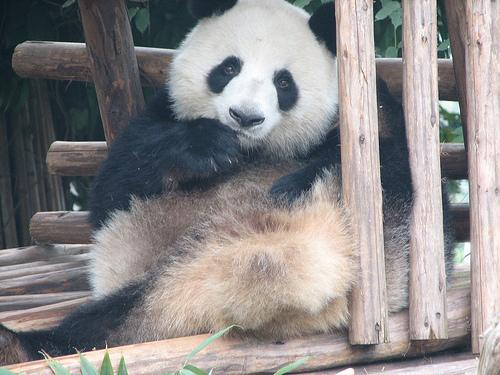panda: (0, 0, 357, 362), (377, 85, 411, 311)
